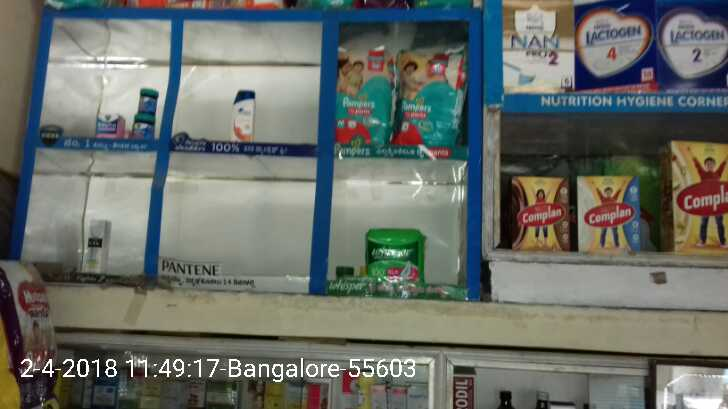vicks: (99, 84, 161, 139)
